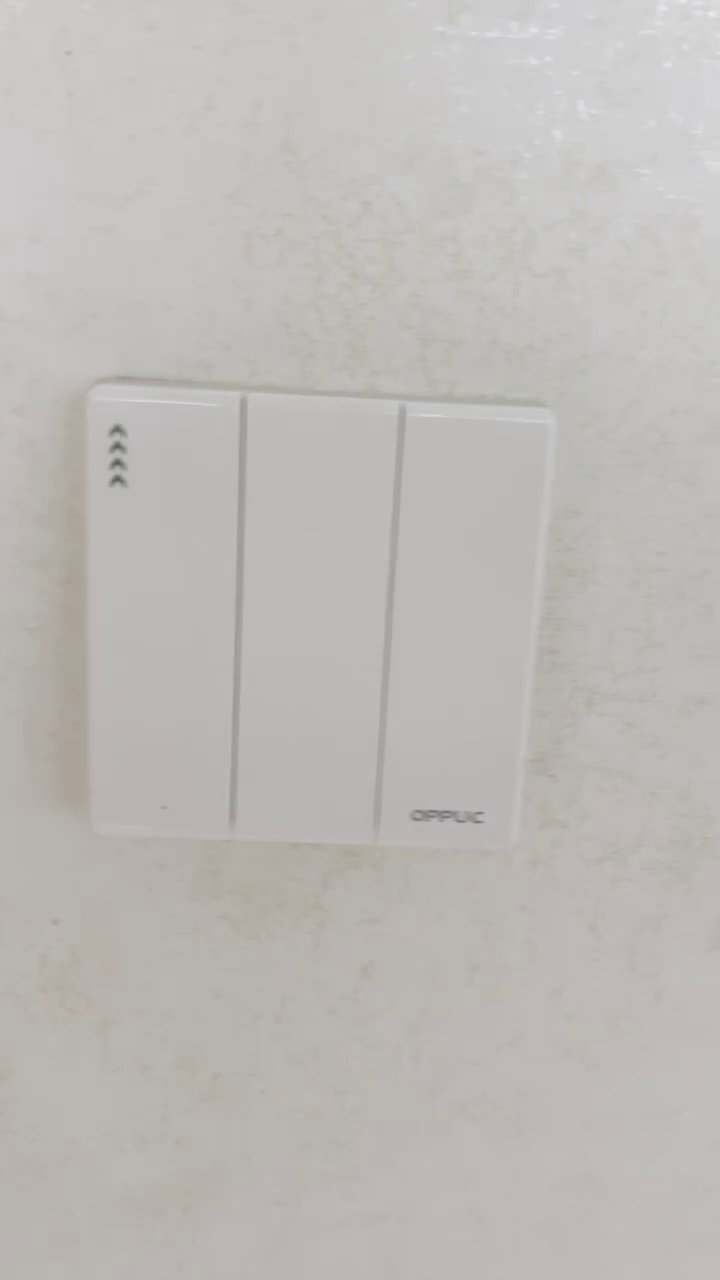button1: (387, 410, 541, 850), (93, 392, 235, 835), (246, 398, 387, 838)
